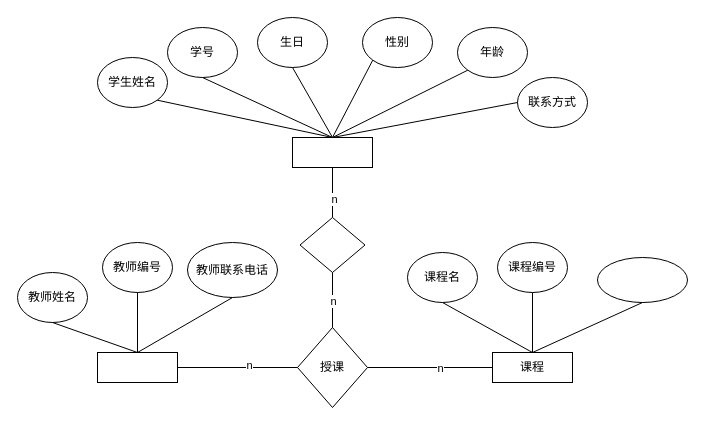
Image size: 705x425. Some labels were removed from this diagram. The centre of each missing label's shape, as x and y in pixels:
"学生" goes at point (332, 152).
"教师" goes at point (137, 367).
"课程详细信息" goes at point (642, 279).
"选课" goes at point (332, 244).
